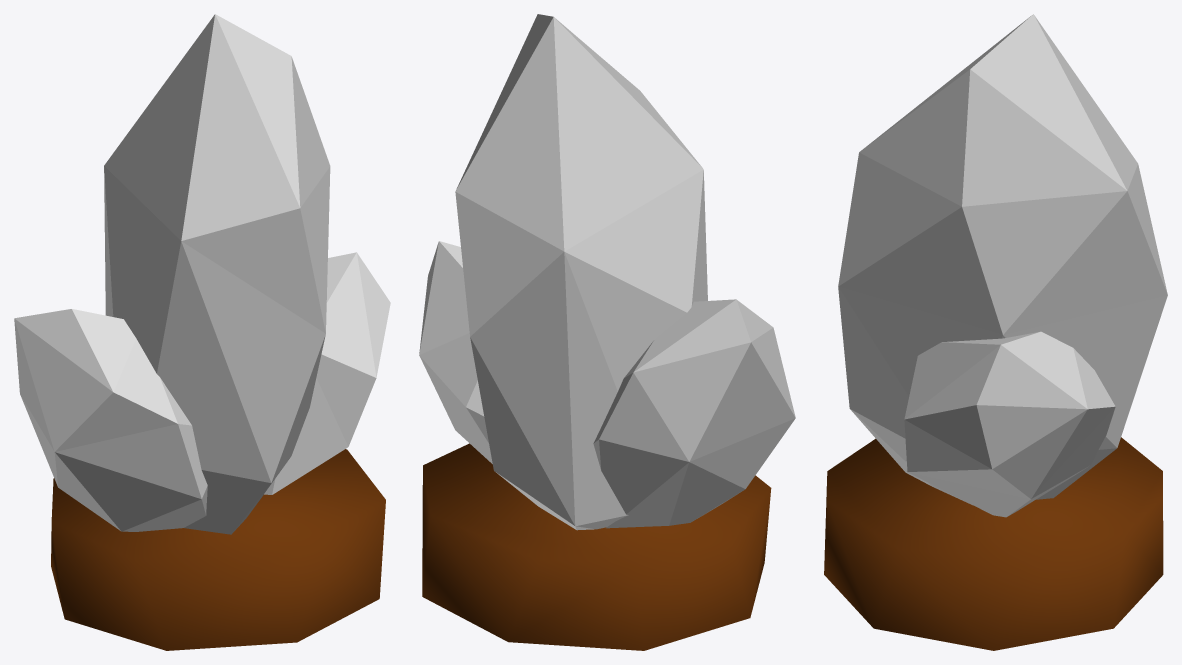
File: Quartz.fbx
3 renders of one model, left to right at view 1: azimuth 30°, elevation 25°; view 2: azimuth 150°, elevation 25°; view 3: azimuth 270°, elevation 25°, orthographic. The views are drawn at different scales.
Parts seen in each view (by area): view 1: Cristales, Base; view 2: Cristales, Base; view 3: Cristales, Base.
Part boxes in pixels (<box>): Cristales: <box>14,14,390,534</box>; Base: <box>51,449,385,650</box>; Cristales: <box>419,14,795,530</box>; Base: <box>422,443,771,650</box>; Cristales: <box>838,14,1167,517</box>; Base: <box>824,437,1163,650</box>.
Bounding box in the file's own units: 607 × 925 × 506.
